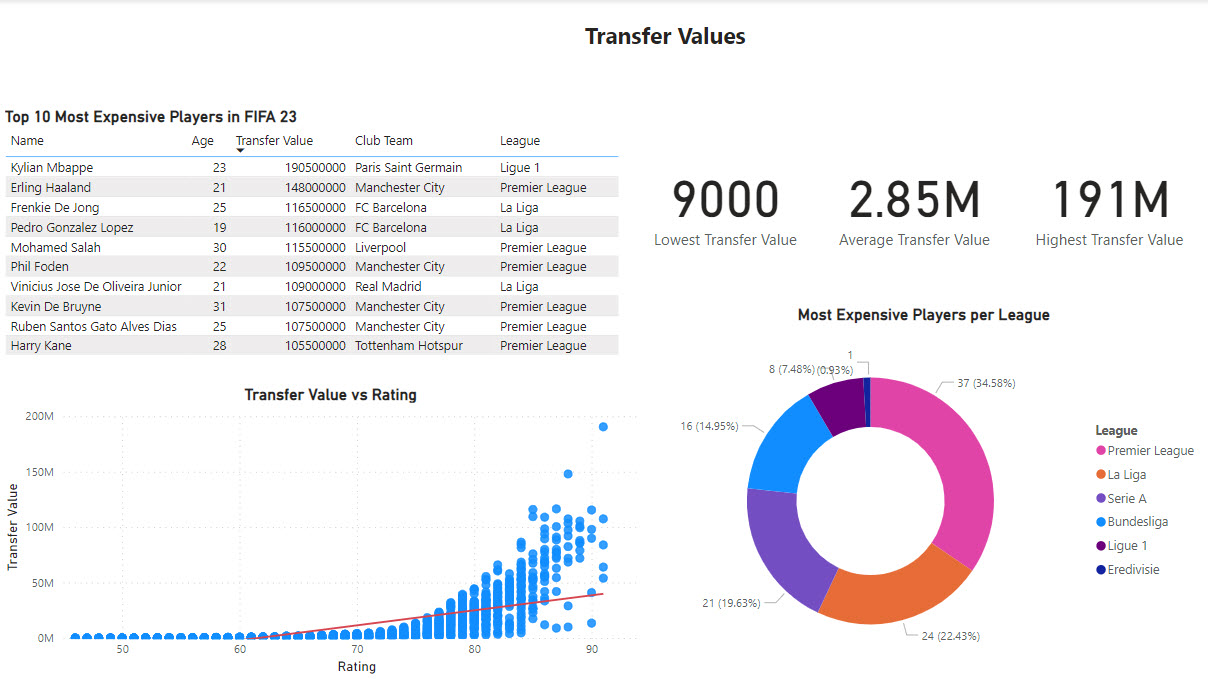

Layout of this report page (visuals, bound fields, positions):
{"tool":"powerbi","page":{"name":"Transfer Values","canvas":[1280,720],"ordinal":1},"visuals":[{"type":"tableEx","title":"Top 10 Most Expensive Players in FIFA 23","fields":{"Values":["top_10_values.name","top_10_values.age","top_10_values.transfer_value","top_10_values.club","top_10_values.league"]},"box":[0,114,679.4,295.2],"z":0},{"type":"scatterChart","title":"Transfer Value vs Rating","fields":{"X":["values_vs_overall.overall"],"Y":["values_vs_overall.transfer_value"]},"box":[0,408.5,700.9,311.5],"z":1000},{"type":"donutChart","title":"Most Expensive Players per League","fields":{"Category":["highest-value_per_league.league"],"Y":["Sum(highest-value_per_league.value_frequency)"]},"box":[678.7,324.2,600.8,395.8],"z":2000},{"type":"textbox","box":[608,16,192,48],"z":3000},{"type":"card","fields":{"Values":["Avg(values_vs_overall.transfer_value)"]},"box":[864,112,208,208],"z":4000},{"type":"card","fields":{"Values":["Min(values_vs_overall.transfer_value)"]},"box":[672,112,192,208],"z":5000},{"type":"card","fields":{"Values":["Max(values_vs_overall.transfer_value)"]},"box":[1072,112,208,208],"z":6000}]}

Visuals, with their boxes in screenshot pixels (x1, y1, x2, y2), scaled from the page's 1280x720 canvas onto the 1208x679 screenshot:
"Top 10 Most Expensive Players in FIFA 23" tableEx: select_region(0, 108, 641, 386)
"Transfer Value vs Rating" scatterChart: select_region(0, 385, 661, 678)
"Most Expensive Players per League" donutChart: select_region(641, 306, 1207, 678)
textbox: select_region(574, 15, 755, 60)
card - Avg(values_vs_overall.transfer_value): select_region(815, 106, 1012, 302)
card - Min(values_vs_overall.transfer_value): select_region(634, 106, 815, 302)
card - Max(values_vs_overall.transfer_value): select_region(1012, 106, 1207, 302)
